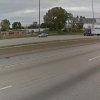Tree: (34, 2, 82, 34)
